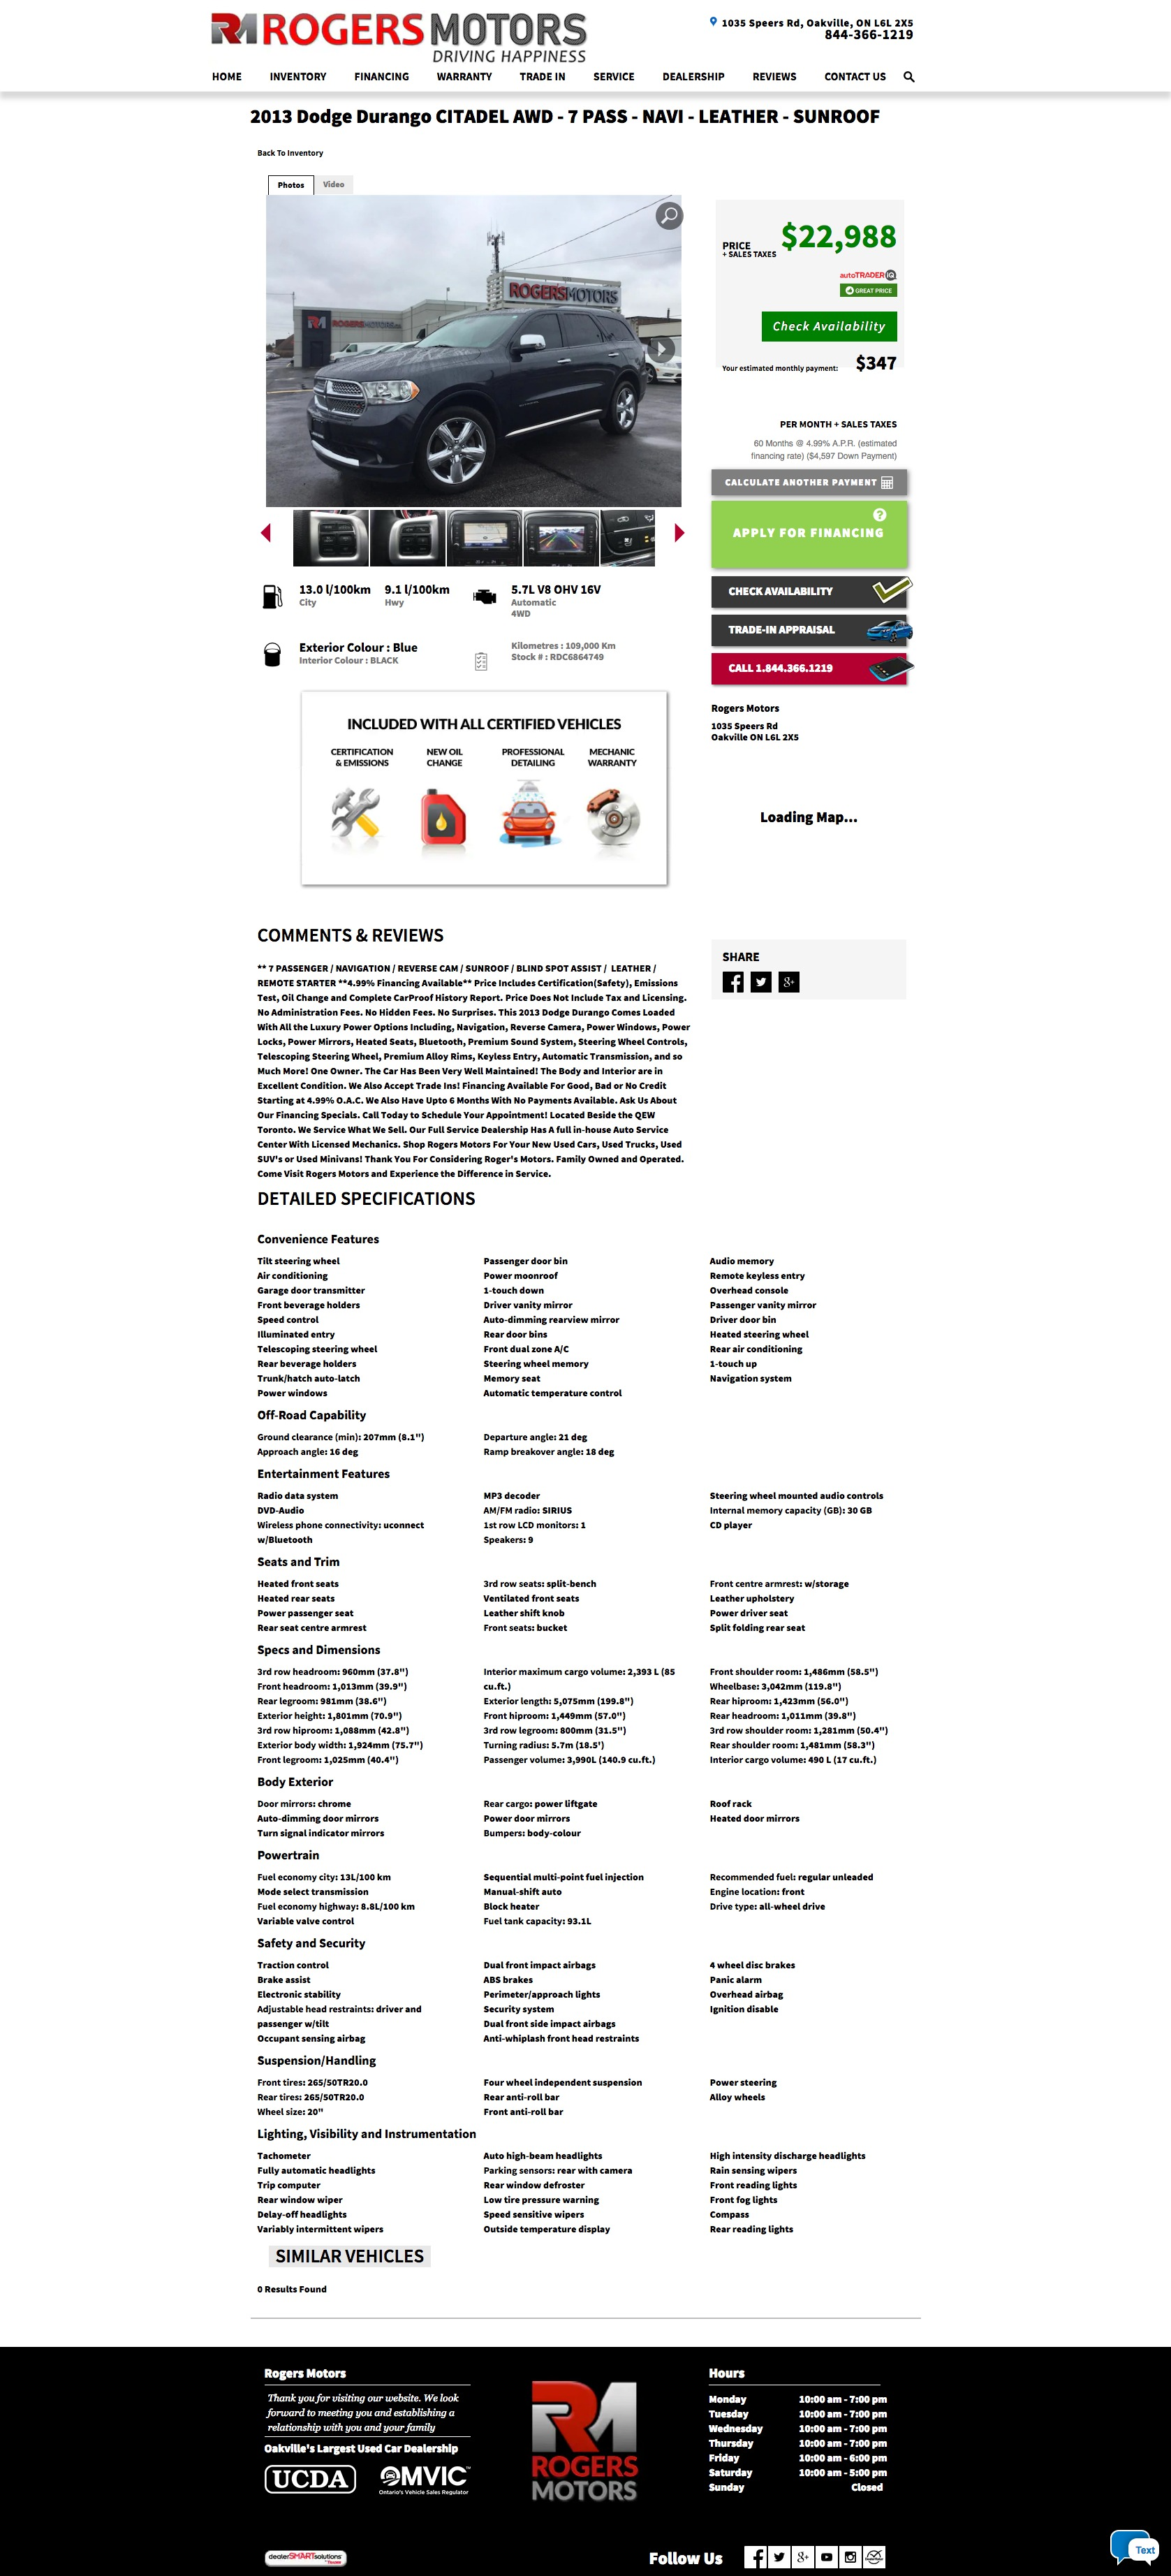car: (675, 522, 687, 544)
